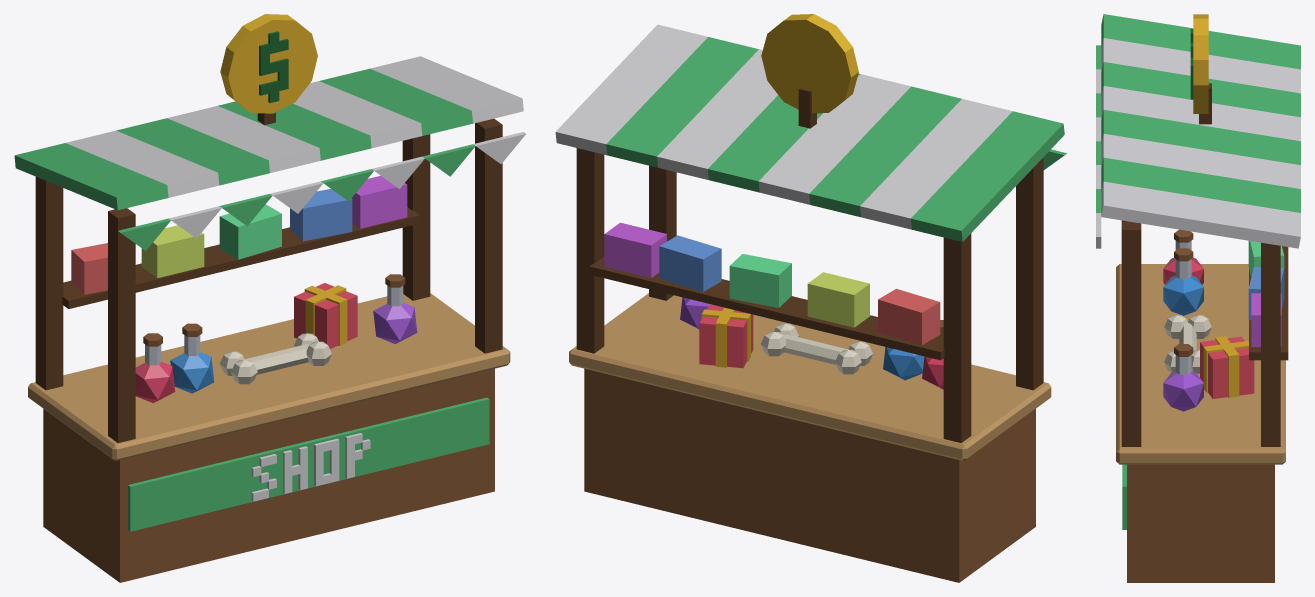
File: Prop_ShopMachine.fbx
The picture shows the model from 3 angles, left to right: view 1: azimuth 30°, elevation 25°; view 2: azimuth 150°, elevation 25°; view 3: azimuth 270°, elevation 25°; orthographic projection. The views are drawn at different scales.
Visible parts, largest first — view 1: Body; view 2: Body; view 3: Body.
Boxes of the visible parts, x1,y1,x2,y2 form: Body: (14,14,525,582); Body: (555,14,1066,582); Body: (1096,14,1300,582).
Size of the model in its own units: 10.4 by 12.05 by 4.7.
